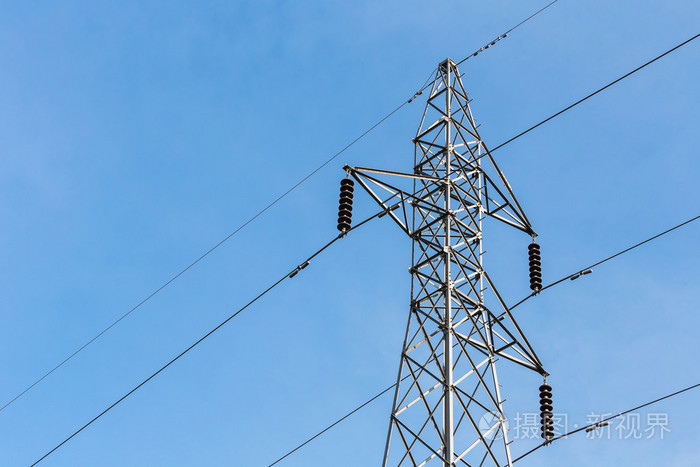insulator: (335, 176, 354, 231), (538, 383, 556, 440), (526, 241, 544, 291)
